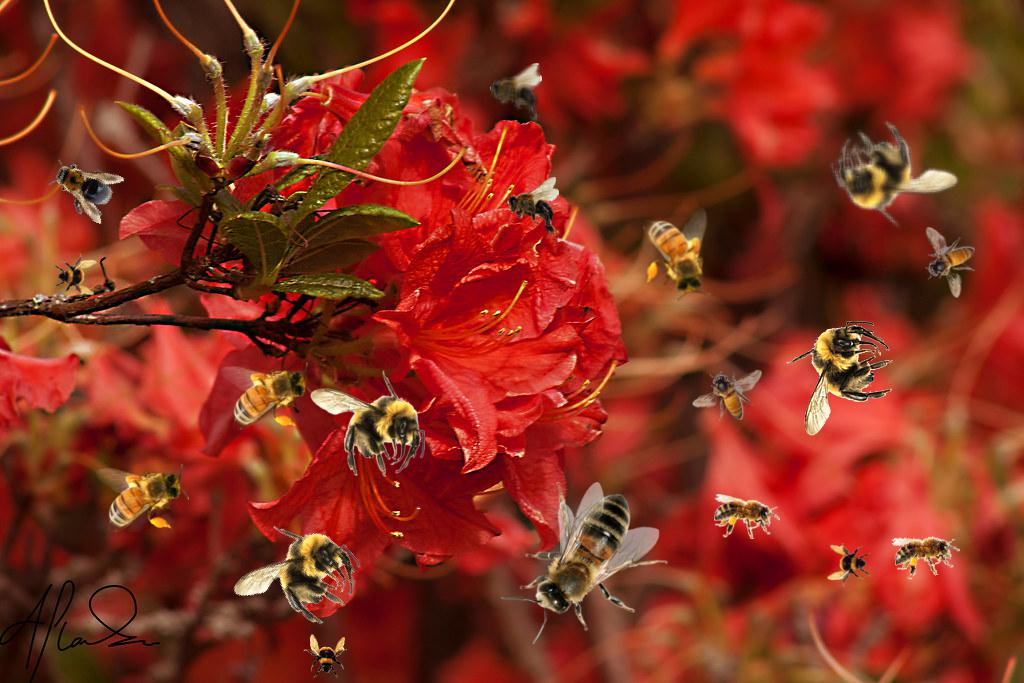Bee: (501, 482, 668, 644), (218, 498, 375, 655), (821, 102, 968, 245), (786, 321, 893, 436), (310, 370, 425, 477), (41, 148, 125, 226), (643, 208, 711, 301), (221, 362, 314, 430), (96, 464, 189, 532), (890, 525, 964, 584), (690, 369, 764, 422), (925, 227, 975, 298), (489, 63, 542, 125), (506, 177, 559, 239), (714, 494, 780, 539), (827, 543, 871, 587), (303, 634, 347, 678), (53, 253, 97, 297)
